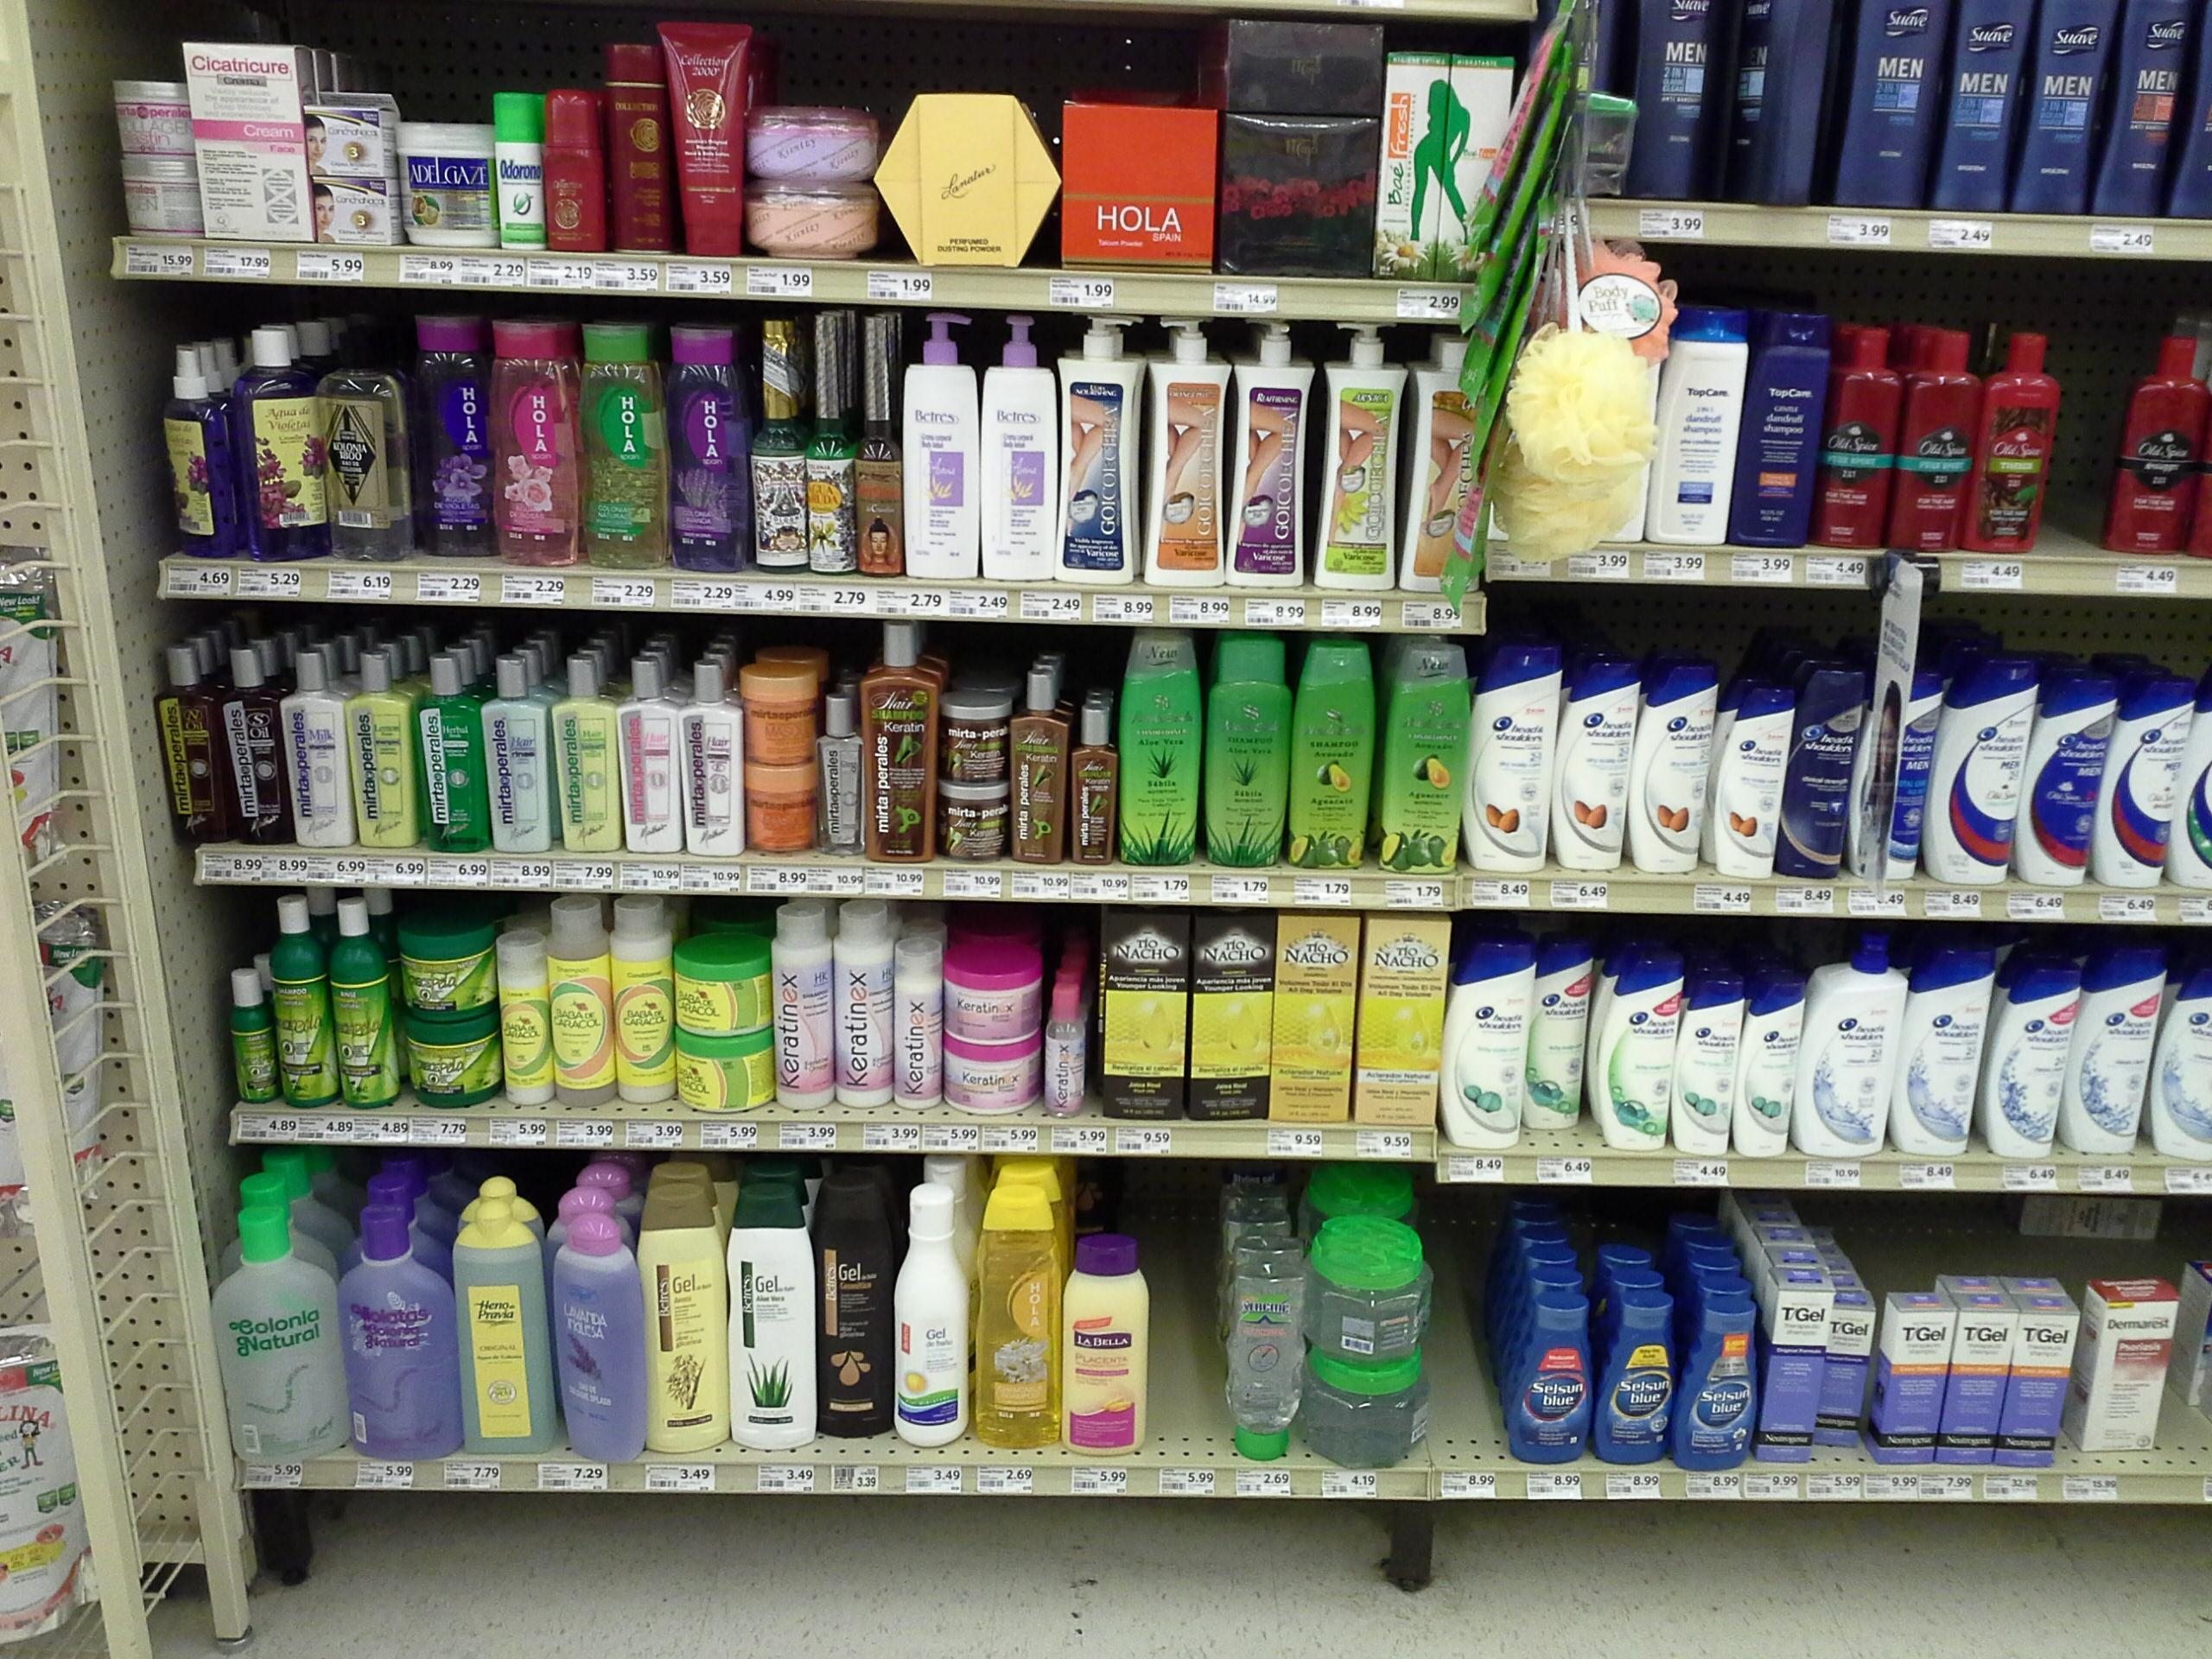empty: (1151, 1244, 1233, 1464), (1426, 1244, 1507, 1464), (2047, 375, 2113, 556)
